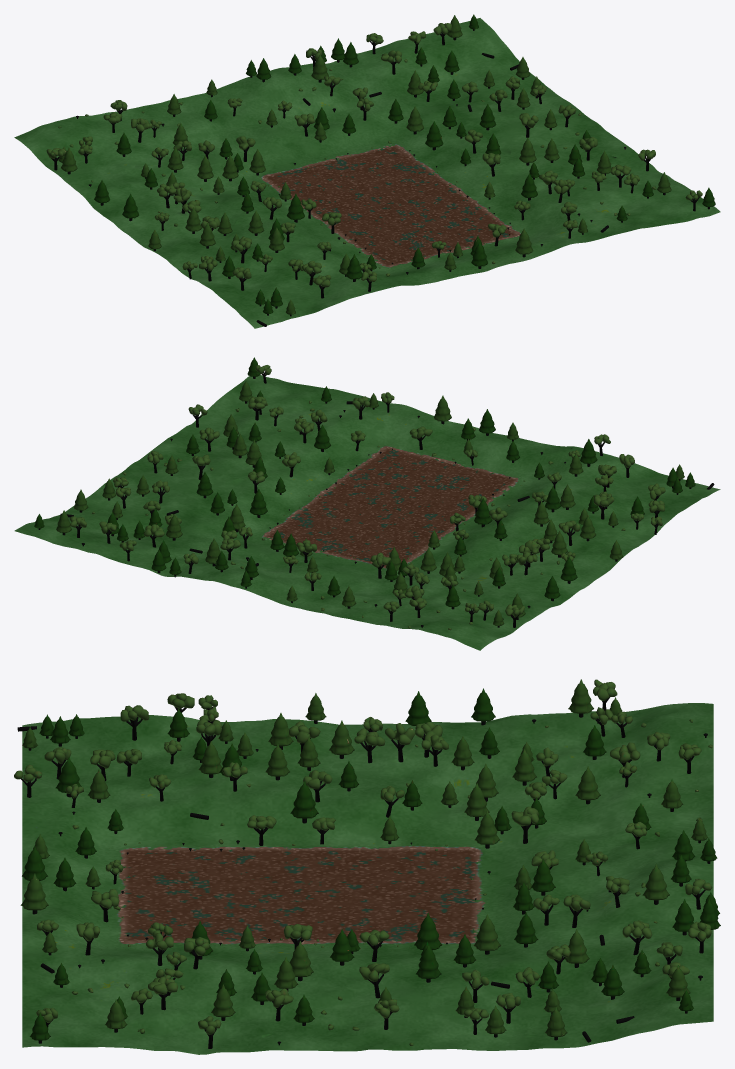
Rendered from surroundings_13x23.glb.
The picture shows the model from 3 angles, top to bottom: view 1: azimuth 30°, elevation 25°; view 2: azimuth 150°, elevation 25°; view 3: azimuth 270°, elevation 25°; orthographic projection. The views are drawn at different scales.
Visible parts, largest first — view 1: ground, props; view 2: ground, props; view 3: ground, props.
Part boxes in pixels (x1,y1,x2,y2): ground: [14, 18, 720, 328]; props: [46, 14, 715, 326]; ground: [14, 375, 720, 650]; props: [34, 357, 714, 630]; ground: [22, 703, 713, 1054]; props: [14, 679, 720, 1048].
Size of the model in its own units: 57.79 by 5.79 by 52.15.
3 materials, 3 textured.
